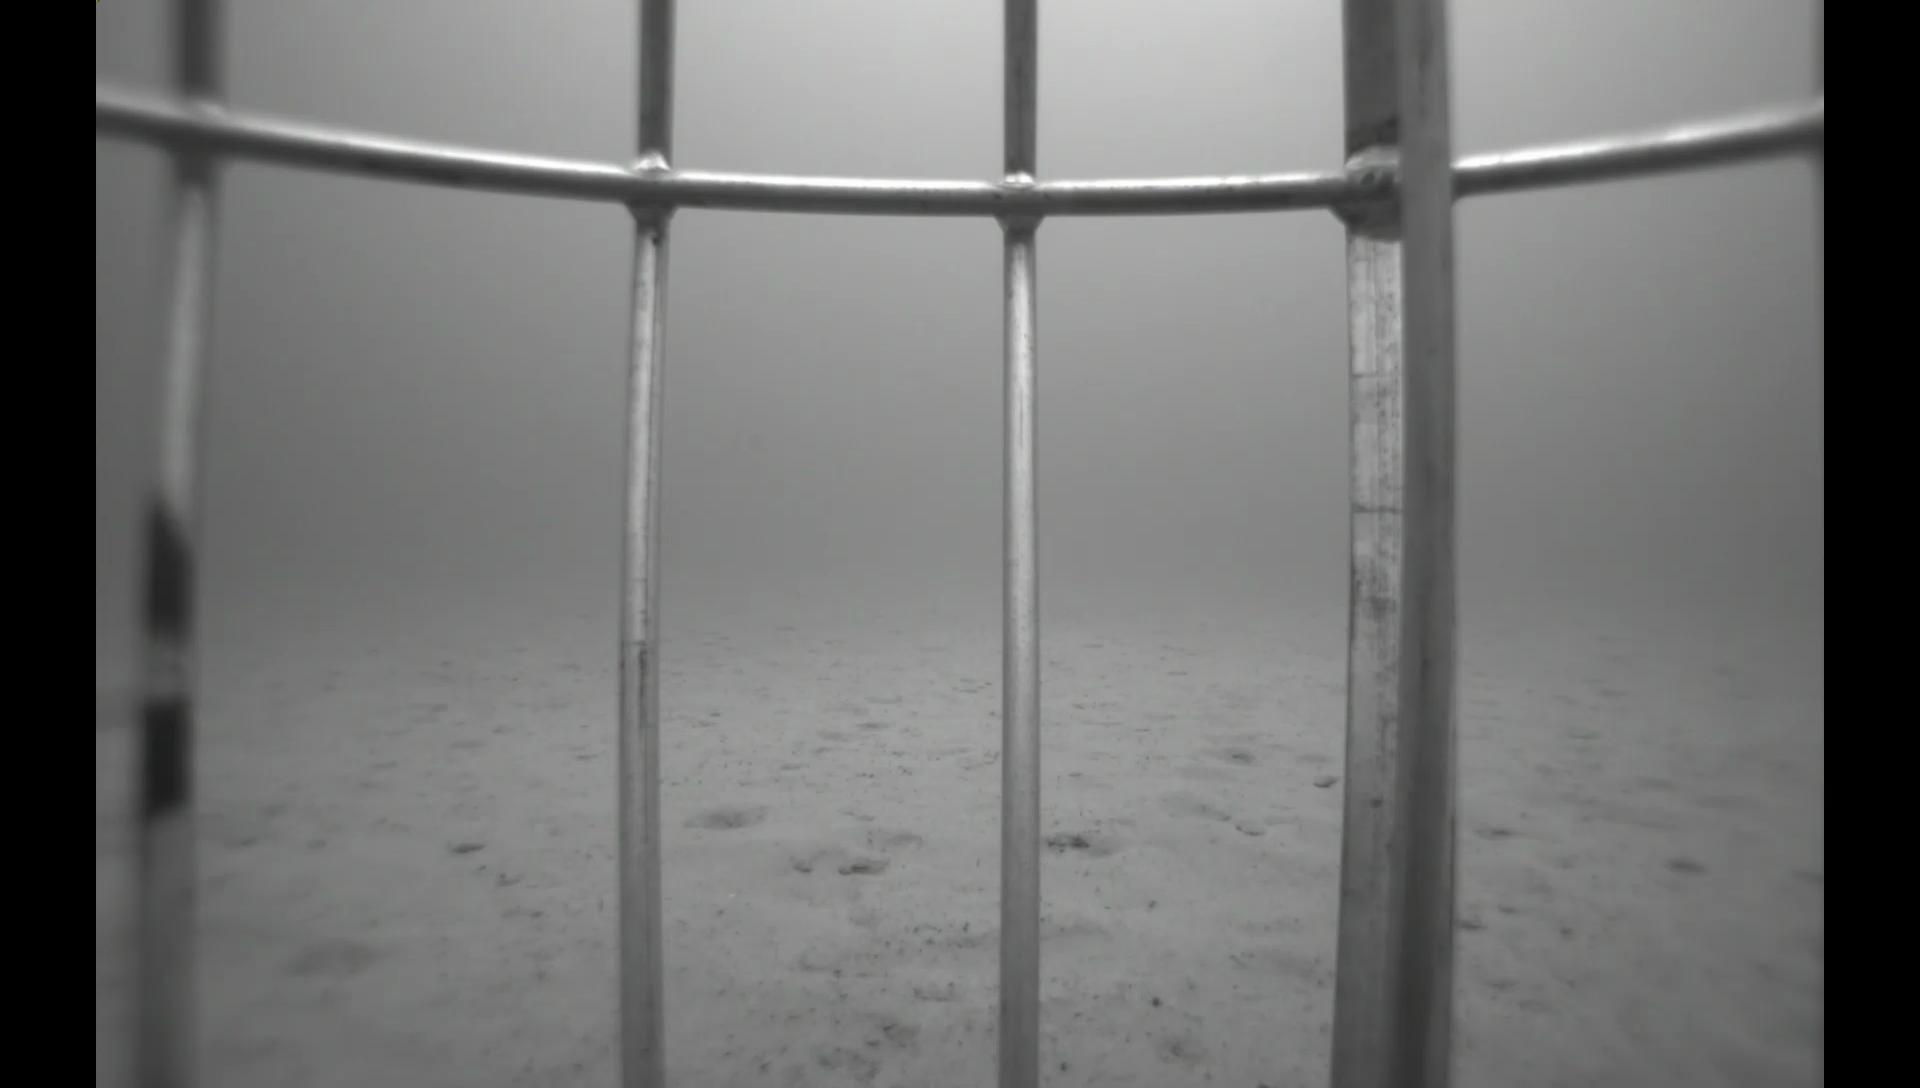CAULOLATILUSCYANOPS-170070101: (196, 779, 306, 862)
